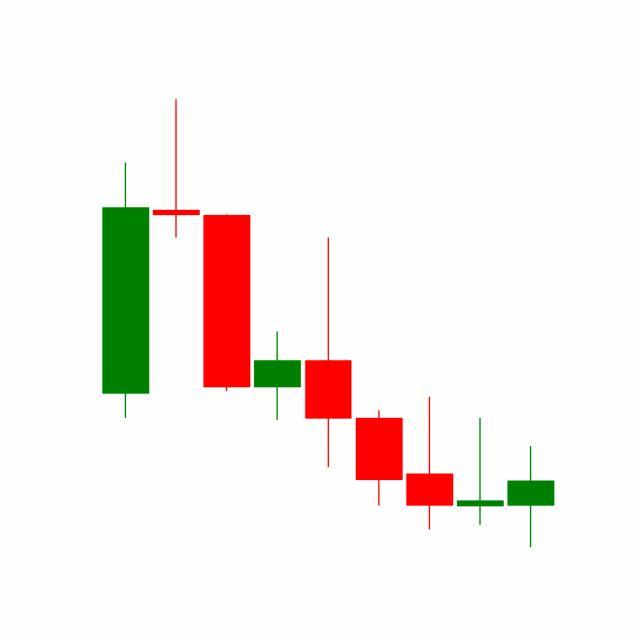Hikkake Pattern: (302, 234, 555, 549)
